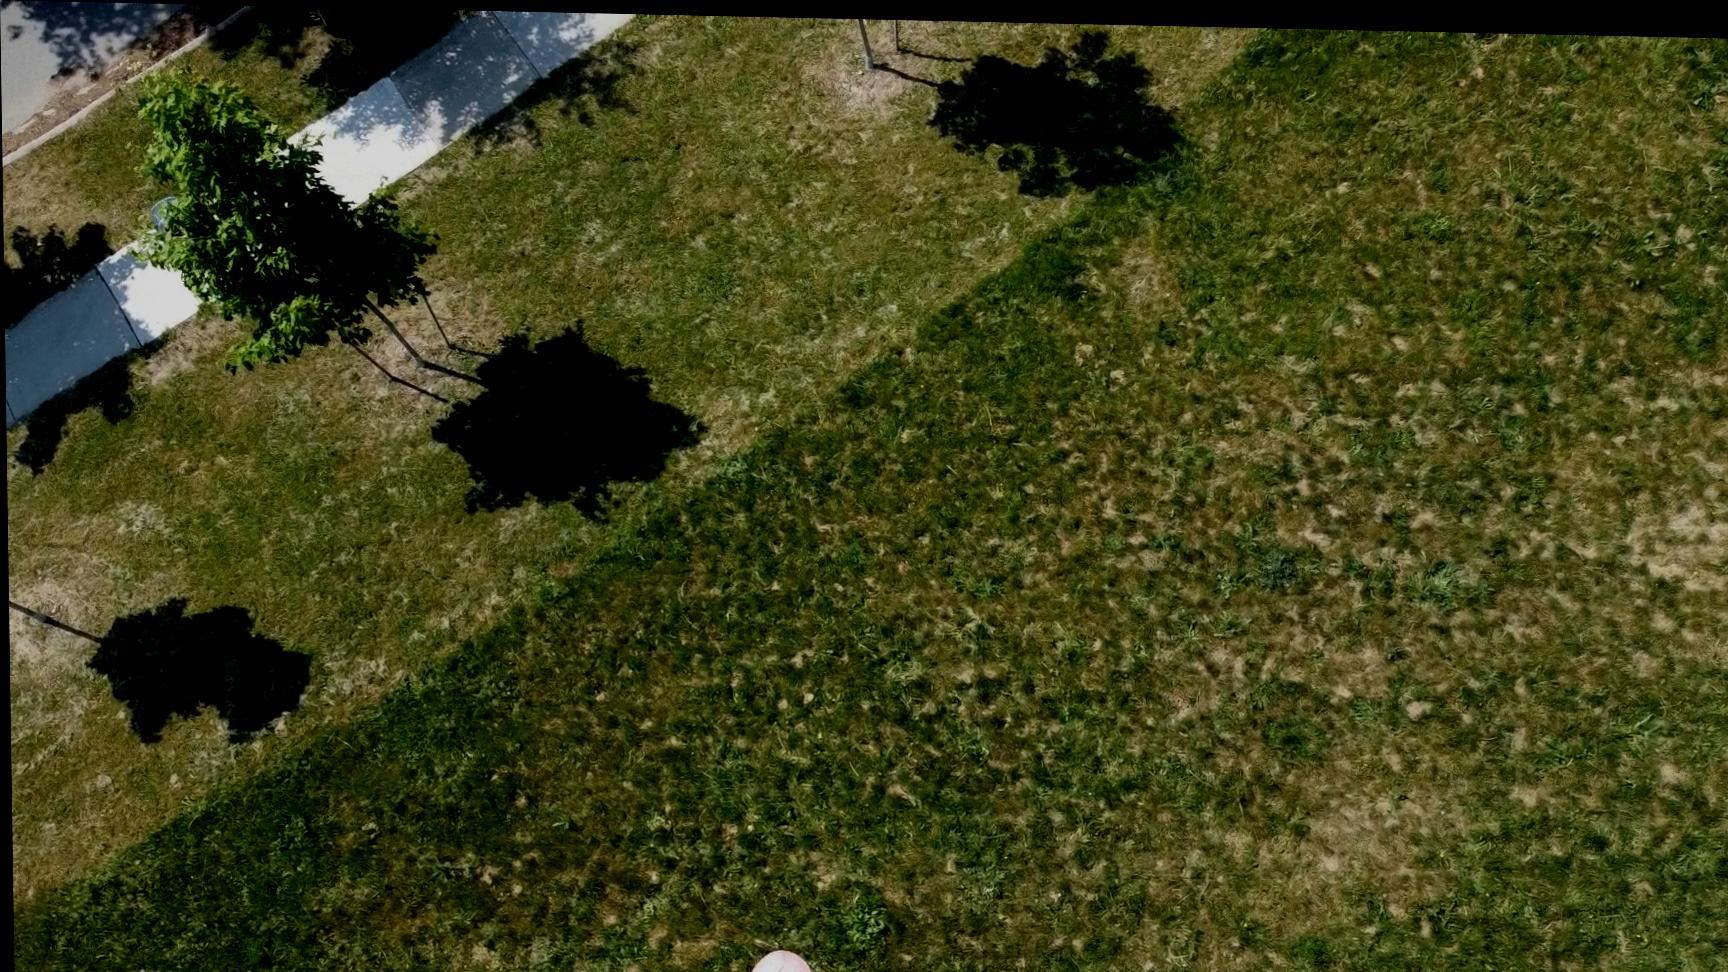Red: (742, 942, 819, 972)
